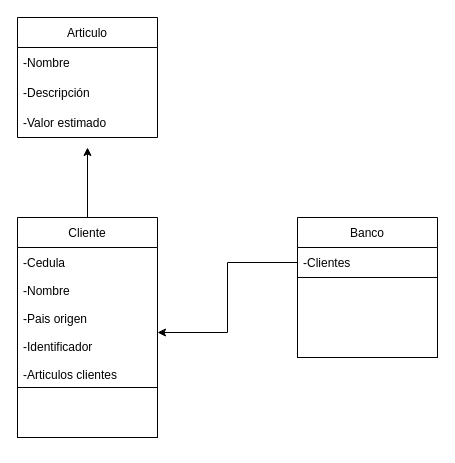
The diagram is 455 pixels wide and 463 high, and some of its shapes have lost their labels. The centre of each missing label's shape, as x and y in pixels:
Suma colectiva Retirar cliente agregar cliente agregar articulo: (x=367, y=317)
Suma individual Retirar Articulo.: (x=87, y=412)
